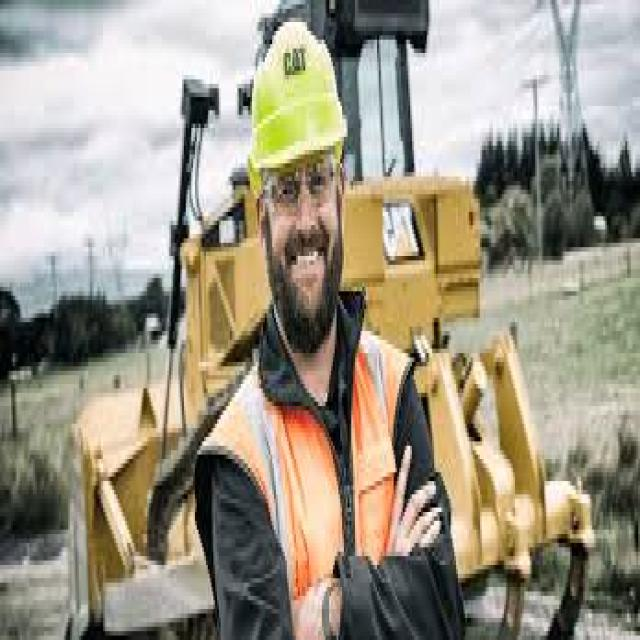Hard Hat: (248, 21, 351, 185)
Reflective Vest: (184, 313, 417, 640)
Safety Glasses: (256, 163, 348, 214)
